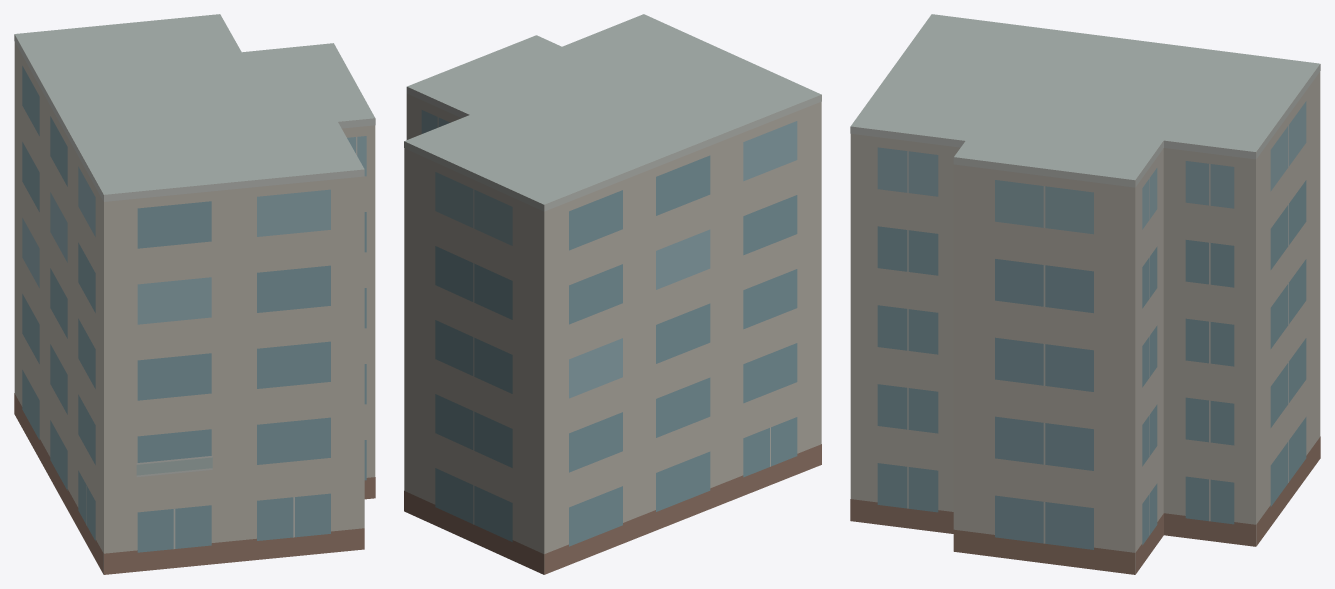
File: survey-upis-32874428.glb
3 renders of one model, left to right at view 1: azimuth 30°, elevation 25°; view 2: azimuth 150°, elevation 25°; view 3: azimuth 270°, elevation 25°, orthographic. The views are drawn at different scales.
Parts seen in each view (by area): view 1: survey-upis-32874428.tmp; view 2: survey-upis-32874428.tmp; view 3: survey-upis-32874428.tmp.
Part boxes in pixels (x1,y1,x2,y2): survey-upis-32874428.tmp: [14, 14, 375, 574]; survey-upis-32874428.tmp: [404, 14, 821, 574]; survey-upis-32874428.tmp: [850, 14, 1320, 574].
Bounding box in the file's own units: 11.85 × 13.1 × 14.15.
